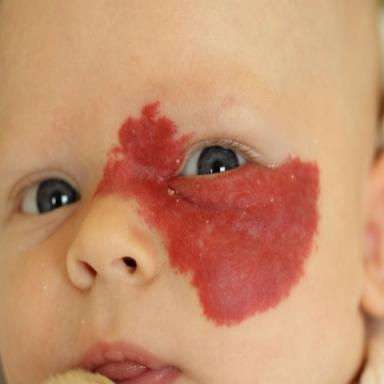Hemangiome: (95, 103, 318, 324)
